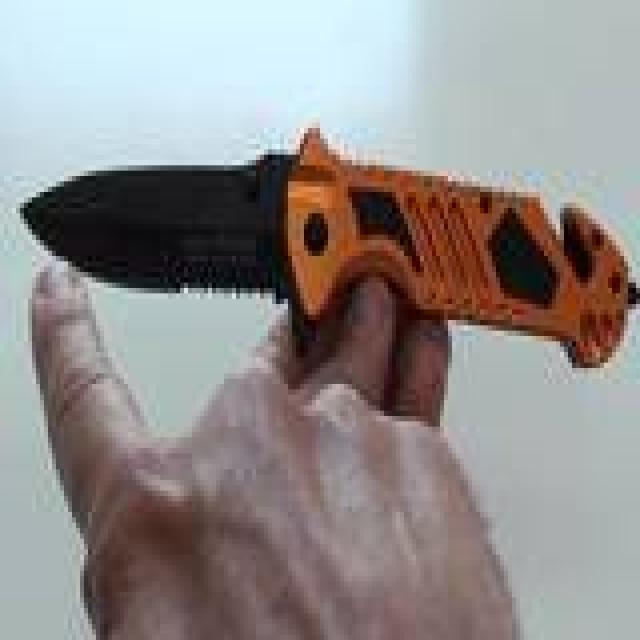Knife: (11, 155, 635, 360)
